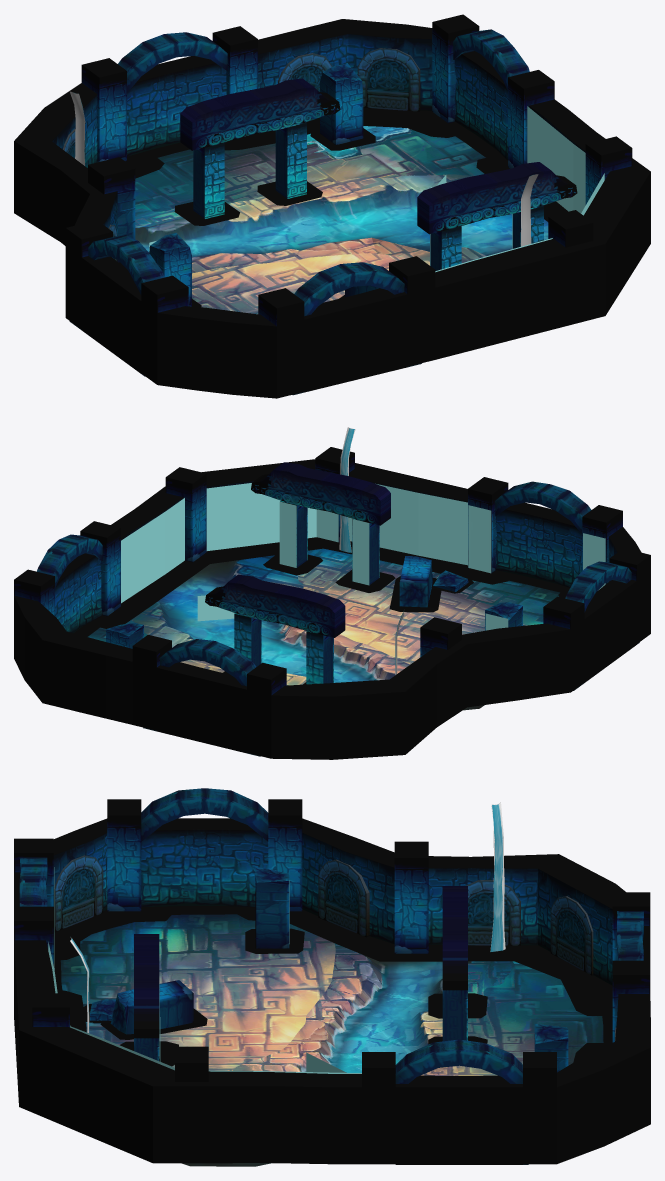
File: Dungeon_051_RoomSW_003.fbx
3 views of the same model, one above another, from view 1: azimuth 30°, elevation 25°; view 2: azimuth 150°, elevation 25°; view 3: azimuth 270°, elevation 25° (orthographic). The views are drawn at different scales.
Visible parts, largest first — view 1: Dun_051_RoomSW_001_Wall, Dun_051_RoomSW_001_Pillar_01, Dun_051_Door_002 (×4), Dun_051_RoomSW_001_kawa01, Dun_051_RoomSW_001_Ground, Dun_051_Obj03_Gate, Dun_051_RoomSW_001_Object_01, Dun_051_RoomSW_001_Object_02, Dun_051_RoomSW_001_Wallobject_01, Dun_051_Door_002_Arch (×3), Dun_051_RoomSW_001_shadow, Dun_051_Room_003_GroundWater_01_Terikaeshi (+6 smaller); view 2: Dun_051_RoomSW_001_Wall, Dun_051_Room_003_GroundWater_01_Terikaeshi, Dun_051_RoomSW_001_Pillar_01, Dun_051_Door_002 (×4), Dun_051_RoomSW_001_Ground, Dun_051_RoomSW_001_kawa01, Dun_051_Obj03_Gate, Dun_051_RoomSW_001_Object_01, Dun_051_RoomSW_001_shadow, Dun_051_Door_002_Arch (×3), Dun_051_RoomSW_001_Object_02, Dun_051_Obj02_Pillar (+4 smaller); view 3: Dun_051_RoomSW_001_Wall, Dun_051_RoomSW_001_Ground, Dun_051_RoomSW_001_Pillar_01, Dun_051_Door_002 (×2), Dun_051_RoomSW_001_kawa01, Dun_051_RoomSW_001_Wallobject_01, Dun_051_RoomSW_001_shadow, Dun_051_RoomSW_001_Object_02, Dun_051_Door_002_Arch (×3), Dun_051_Obj03_Gate, Dun_051_RoomSW_001_Object_01, Dun_051_Obj02_Pillar (+6 smaller).
Boxes of the visible parts, x1,y1,x2,y2 form: Dun_051_RoomSW_001_Wall: (14, 19, 650, 398); Dun_051_RoomSW_001_Pillar_01: (65, 14, 632, 398); Dun_051_Door_002 (×4): (81, 51, 507, 392); Dun_051_RoomSW_001_kawa01: (135, 174, 548, 273); Dun_051_RoomSW_001_Ground: (69, 129, 485, 395); Dun_051_Obj03_Gate: (180, 78, 340, 218); Dun_051_RoomSW_001_Object_01: (417, 162, 577, 270); Dun_051_RoomSW_001_Object_02: (88, 29, 529, 316); Dun_051_RoomSW_001_Wallobject_01: (63, 48, 420, 261); Dun_051_Door_002_Arch (×3): (127, 30, 510, 300); Dun_051_RoomSW_001_shadow: (119, 108, 567, 307); Dun_051_Room_003_GroundWater_01_Terikaeshi: (149, 106, 604, 272); Dun_051_RoomSW_001_Wall: (14, 459, 641, 759); Dun_051_Room_003_GroundWater_01_Terikaeshi: (121, 483, 605, 630); Dun_051_RoomSW_001_Pillar_01: (14, 447, 650, 758); Dun_051_Door_002 (×4): (55, 502, 636, 753); Dun_051_RoomSW_001_Ground: (88, 548, 639, 756); Dun_051_RoomSW_001_kawa01: (131, 555, 484, 710); Dun_051_Obj03_Gate: (205, 574, 345, 684); Dun_051_RoomSW_001_Object_01: (251, 462, 390, 584); Dun_051_RoomSW_001_shadow: (100, 537, 566, 628); Dun_051_Door_002_Arch (×3): (37, 485, 624, 601); Dun_051_RoomSW_001_Object_02: (37, 481, 631, 686); Dun_051_Obj02_Pillar: (399, 556, 468, 607); Dun_051_RoomSW_001_Wall: (14, 818, 650, 1164); Dun_051_RoomSW_001_Ground: (60, 914, 603, 1164); Dun_051_RoomSW_001_Pillar_01: (14, 799, 650, 1164); Dun_051_Door_002 (×2): (141, 818, 522, 1164); Dun_051_RoomSW_001_kawa01: (182, 943, 513, 1166); Dun_051_RoomSW_001_Wallobject_01: (53, 855, 616, 1040); Dun_051_RoomSW_001_shadow: (53, 907, 612, 1066); Dun_051_RoomSW_001_Object_02: (19, 788, 643, 1083); Dun_051_Door_002_Arch (×3): (141, 789, 641, 1073); Dun_051_Obj03_Gate: (442, 886, 467, 1041); Dun_051_RoomSW_001_Object_01: (134, 934, 159, 1060); Dun_051_Obj02_Pillar: (90, 980, 193, 1034).
Size of what is drawn, in the model's own units: 15 by 4 by 15.02.
